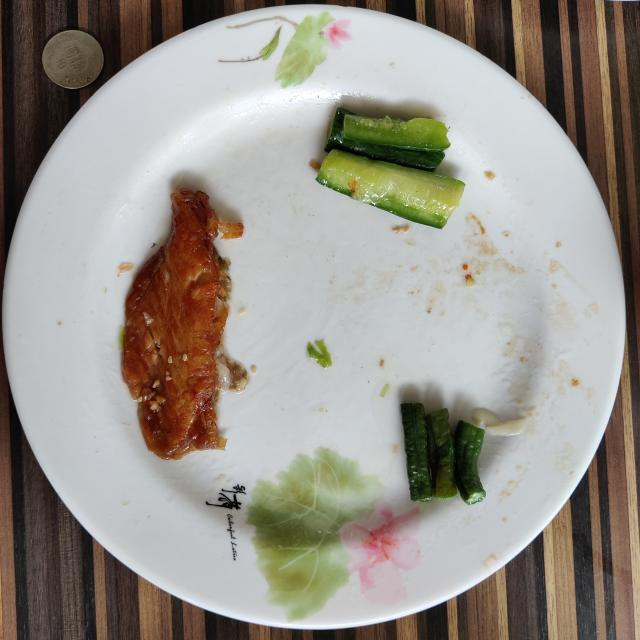Kabayaki sea bream fillet: (122, 188, 249, 459)
coin: (42, 30, 104, 89)
cucumber: (316, 108, 465, 229)
